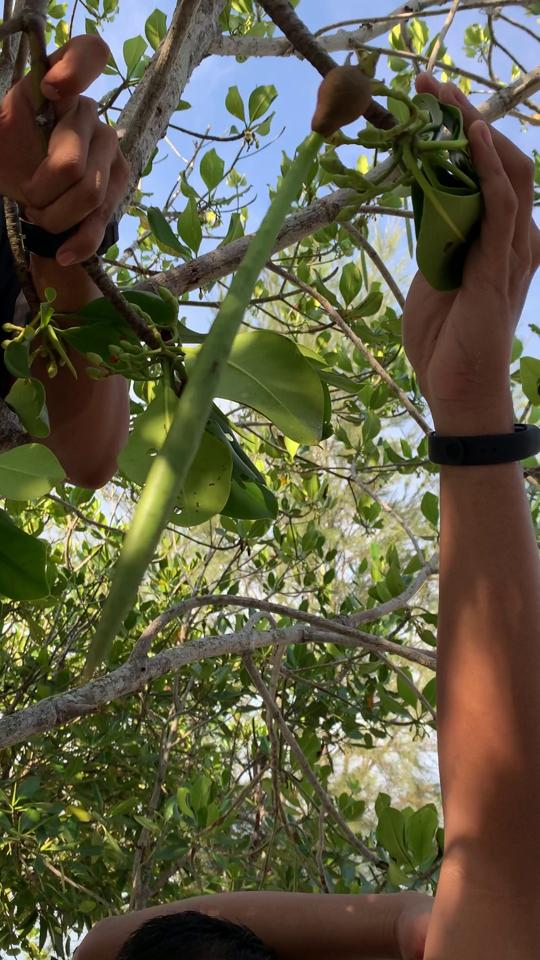mentah: (54, 48, 394, 699)
